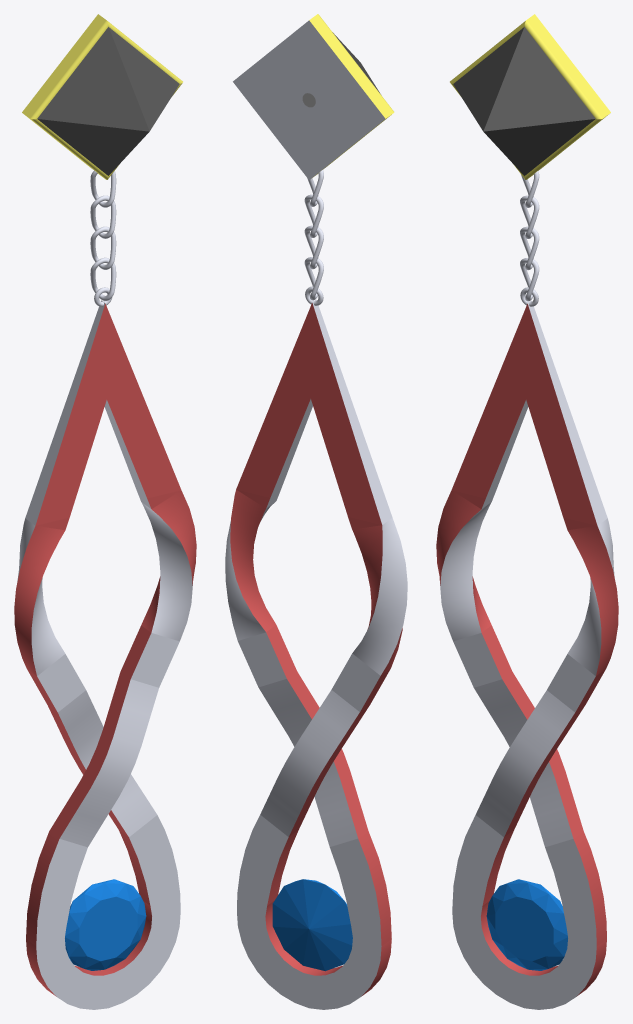
File: earring.fbx
The picture shows the model from 3 angles, left to right: view 1: azimuth 30°, elevation 25°; view 2: azimuth 150°, elevation 25°; view 3: azimuth 330°, elevation 25°; orthographic projection.
Visible parts, largest first — view 1: earring v2; view 2: earring v2; view 3: earring v2.
Boxes of the visible parts, x1,y1,x2,y2 form: earring v2: (14,14,196,1009); earring v2: (225,14,407,1009); earring v2: (436,14,618,1009).
Bounding box in the file's own units: 1.02 × 5.29 × 0.5738.
